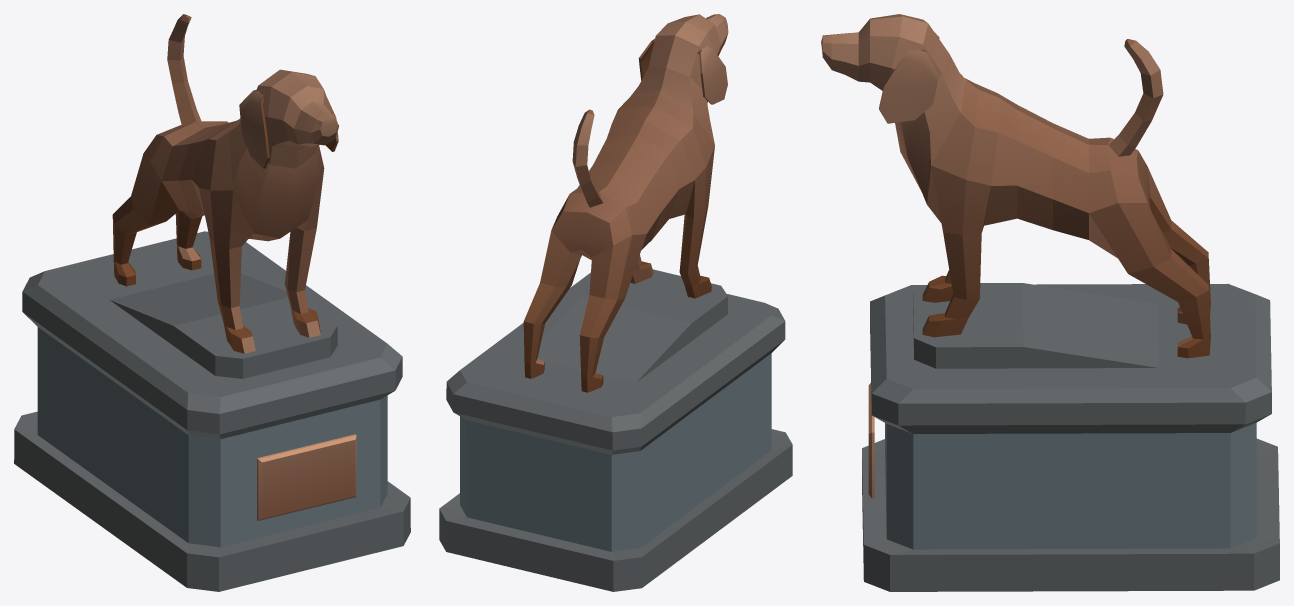
The model's file is Environment_AnimalStatue_Dog_Mix.fbx.
The picture shows the model from 3 angles, left to right: view 1: azimuth 30°, elevation 25°; view 2: azimuth 150°, elevation 25°; view 3: azimuth 270°, elevation 25°; orthographic projection. The views are drawn at different scales.
Parts seen in each view (by area): view 1: Environment_AnimalStatueStand.003, Environment_AnimalStatueStand_Dog.003, Environment_AnimalStatueStand_Raiser.003, Environment_AnimalStatueStand_Plaque.003; view 2: Environment_AnimalStatueStand.003, Environment_AnimalStatueStand_Dog.003, Environment_AnimalStatueStand_Raiser.003; view 3: Environment_AnimalStatueStand.003, Environment_AnimalStatueStand_Dog.003, Environment_AnimalStatueStand_Raiser.003, Environment_AnimalStatueStand_Plaque.003.
Boxes of the visible parts, box(x1,y1,x2,y2) form: Environment_AnimalStatueStand.003: box(14, 231, 410, 591); Environment_AnimalStatueStand_Dog.003: box(112, 14, 338, 353); Environment_AnimalStatueStand_Raiser.003: box(110, 273, 337, 378); Environment_AnimalStatueStand_Plaque.003: box(257, 434, 356, 520); Environment_AnimalStatueStand.003: box(439, 272, 792, 591); Environment_AnimalStatueStand_Dog.003: box(523, 14, 728, 392); Environment_AnimalStatueStand_Raiser.003: box(537, 269, 727, 382); Environment_AnimalStatueStand.003: box(862, 283, 1279, 591); Environment_AnimalStatueStand_Dog.003: box(821, 14, 1210, 358); Environment_AnimalStatueStand_Raiser.003: box(913, 283, 1158, 368); Environment_AnimalStatueStand_Plaque.003: box(868, 383, 874, 498).
Size of the model in its own units: 227 by 462 by 372.
